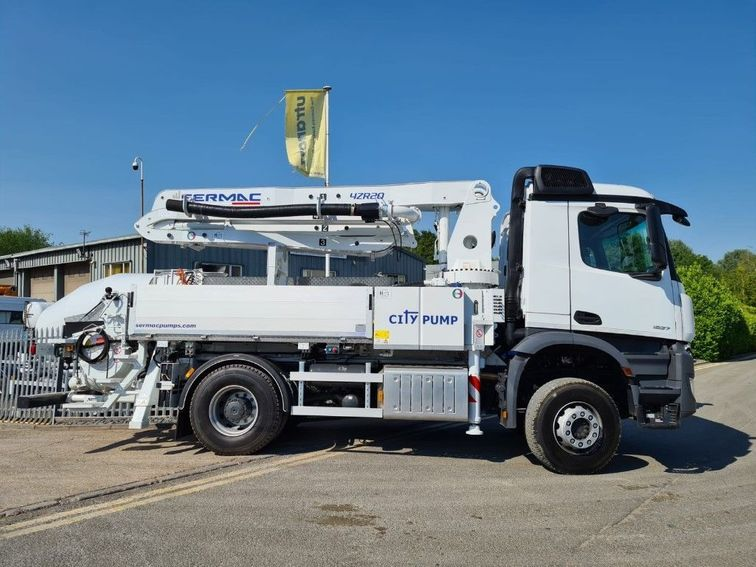Semi: (23, 163, 693, 472)
